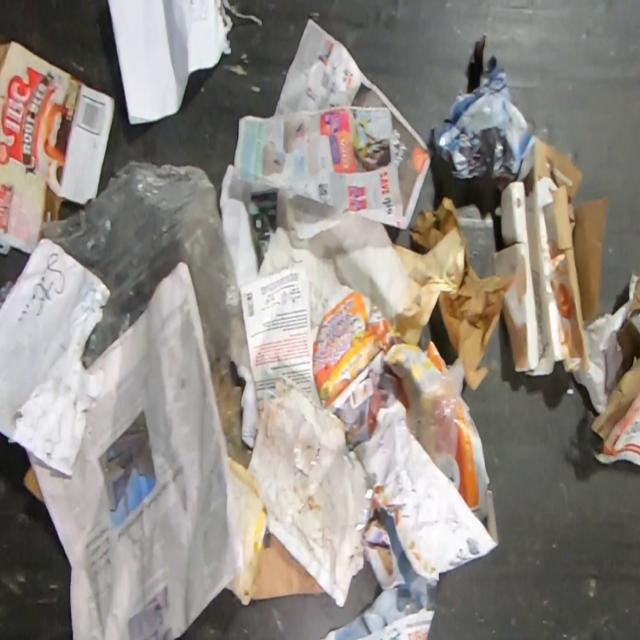cardboard: (492, 138, 608, 378), (0, 38, 116, 256), (585, 355, 640, 468), (250, 532, 324, 599), (613, 269, 640, 383), (20, 463, 45, 502)
soft_plastic: (40, 159, 250, 375), (406, 355, 464, 487), (0, 281, 15, 313)
